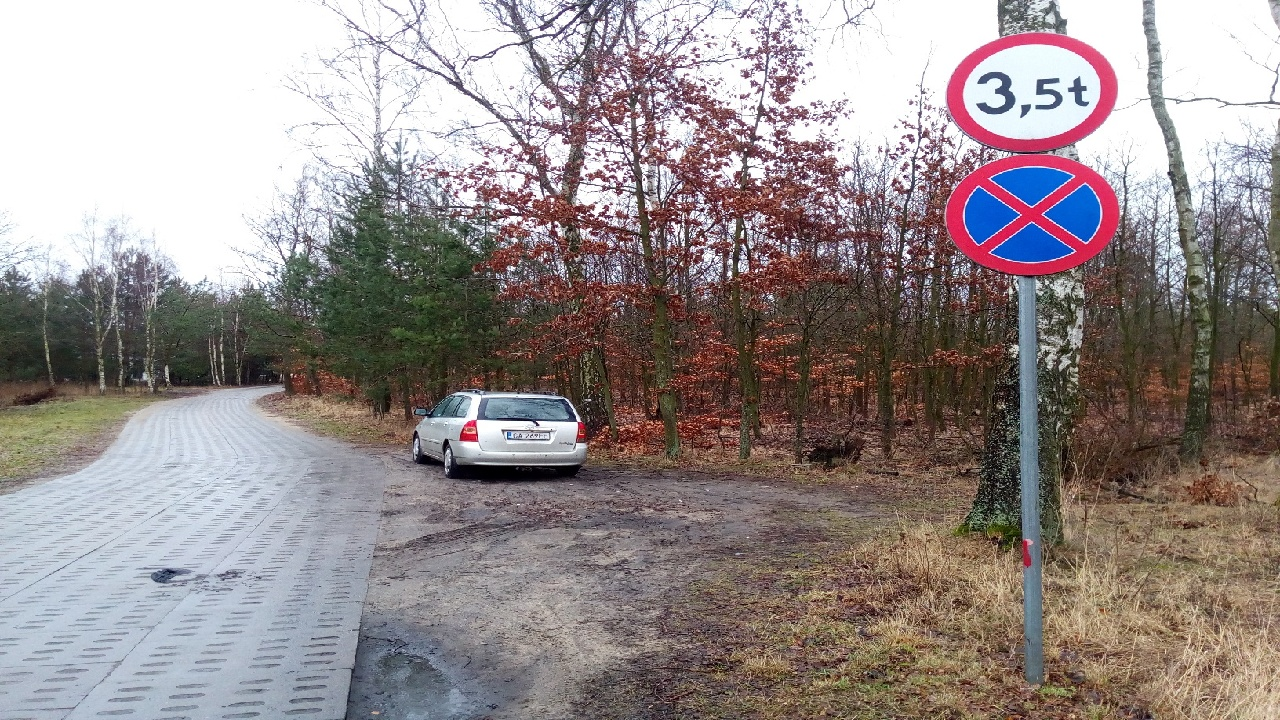B36: (943, 154, 1120, 275)
